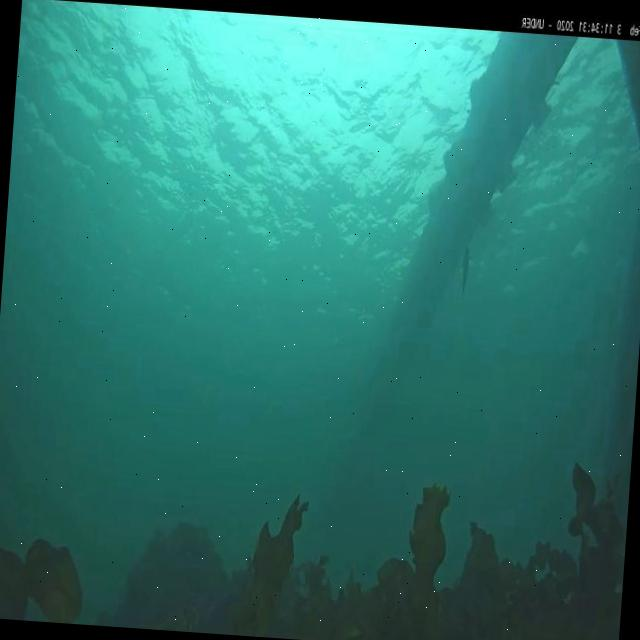fish: (456, 246, 472, 304)
